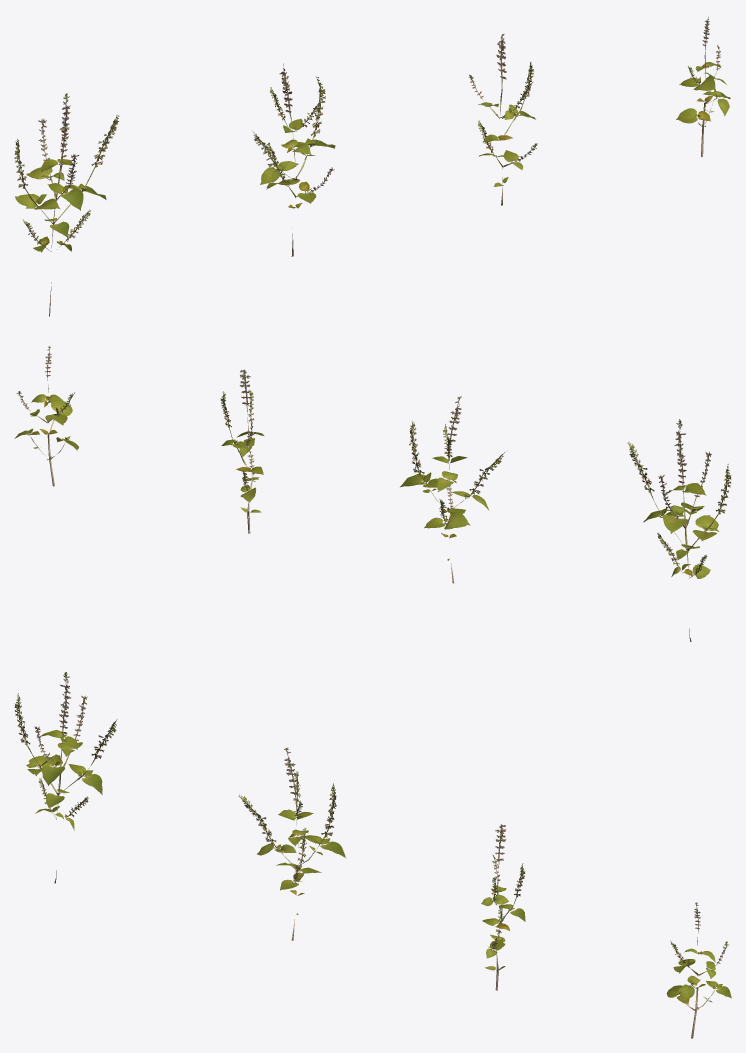
File: shrub_03.glb
3 renders of one model, top to bottom at view 1: azimuth 30°, elevation 25°; view 2: azimuth 150°, elevation 25°; view 3: azimuth 330°, elevation 25°, orthographic. The views are drawn at different scales.
Parts seen in each view (by area): view 1: shrub_03_a, shrub_03_b, shrub_03_c, shrub_03_d; view 2: shrub_03_a, shrub_03_b, shrub_03_c, shrub_03_d; view 3: shrub_03_a, shrub_03_b, shrub_03_c, shrub_03_d.
Part boxes in pixels (box(x1,y1,x2,y2)): shrub_03_a: box(14, 93, 119, 316); shrub_03_b: box(253, 63, 335, 256); shrub_03_c: box(468, 33, 537, 205); shrub_03_d: box(676, 16, 730, 157); shrub_03_a: box(627, 419, 731, 641); shrub_03_b: box(400, 396, 504, 583); shrub_03_c: box(220, 369, 264, 533); shrub_03_d: box(14, 346, 78, 486); shrub_03_a: box(14, 672, 117, 883); shrub_03_b: box(238, 747, 345, 940); shrub_03_c: box(481, 824, 525, 990); shrub_03_d: box(666, 902, 731, 1038).
Size of the model in its own units: 1.37 by 0.4028 by 0.1512.
Materials: 1 (1 with a texture image).
